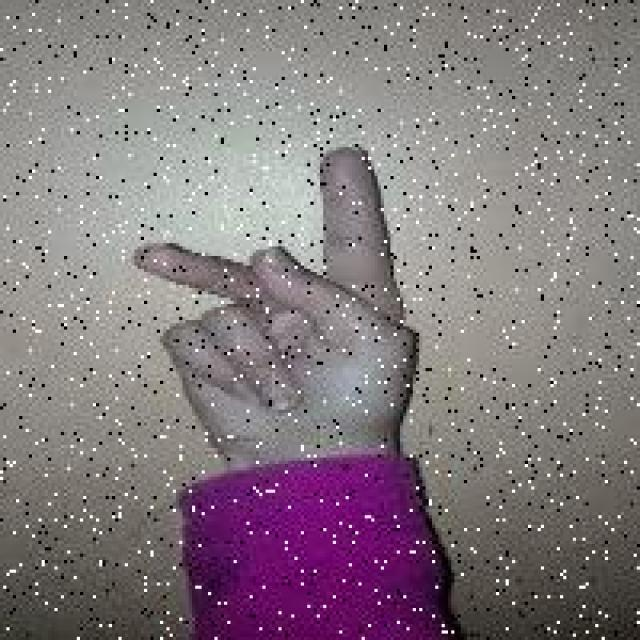K: (115, 139, 416, 434)
